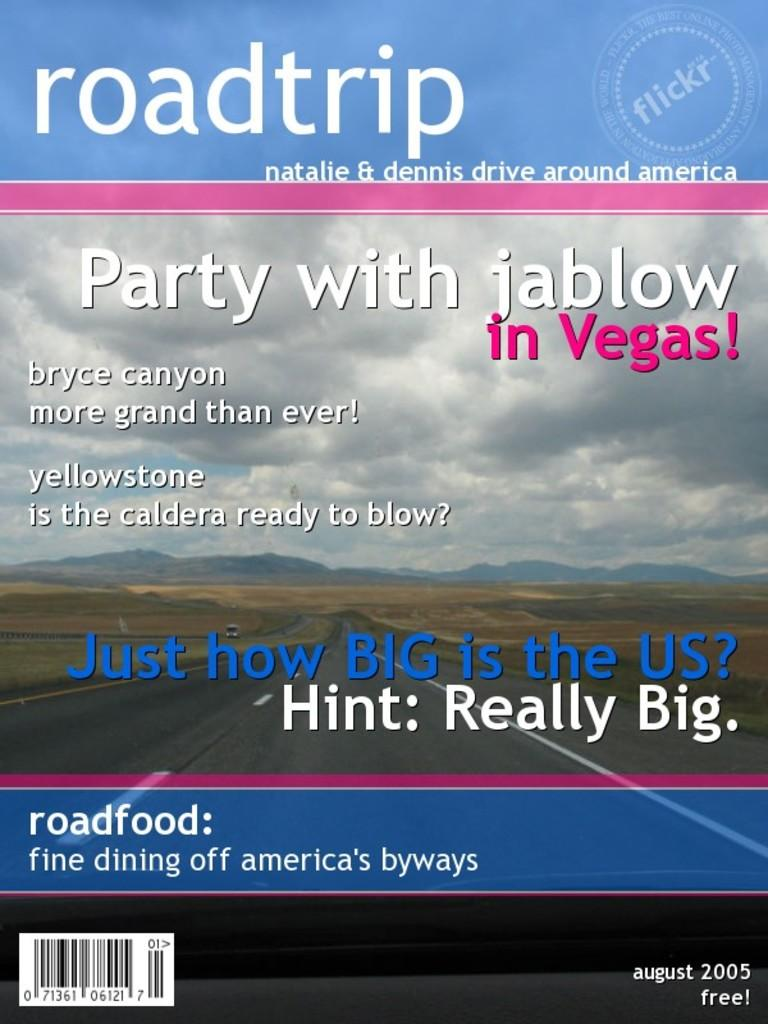book: (9, 0, 767, 1023)
